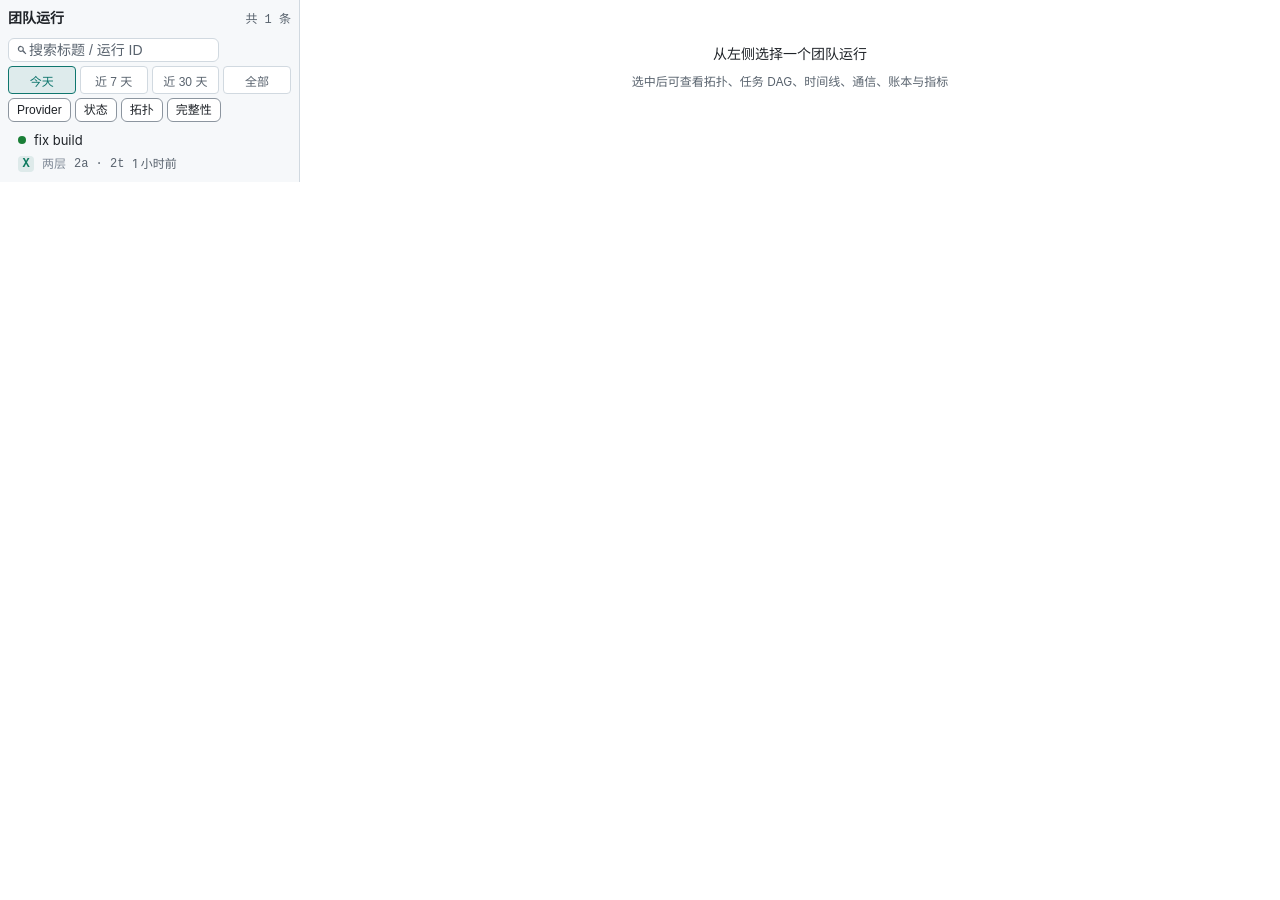
it: TeamShell 打开 run › 点击 run 行 → 加载 snapshot + 渲染 summary header
Click the option with class "team-row".
click(58, 140)  # box left=18, top=132, right=177, bottom=172
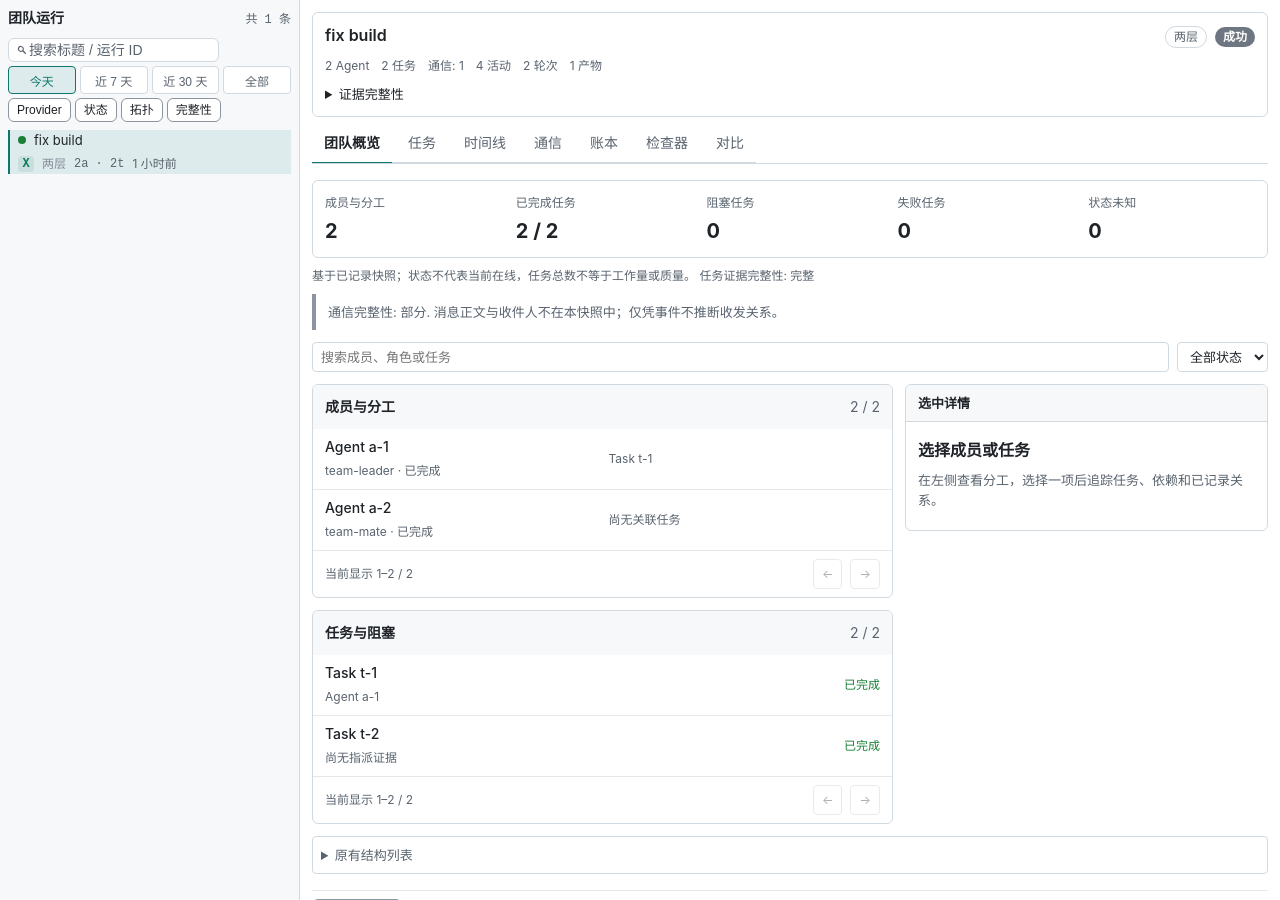
Expected: the header with class "team-summary-header" is shown, left=312, top=12, right=1268, bottom=117
Expected: the heading with class "team-summary-title" reads "fix build", left=325, top=25, right=387, bottom=45
